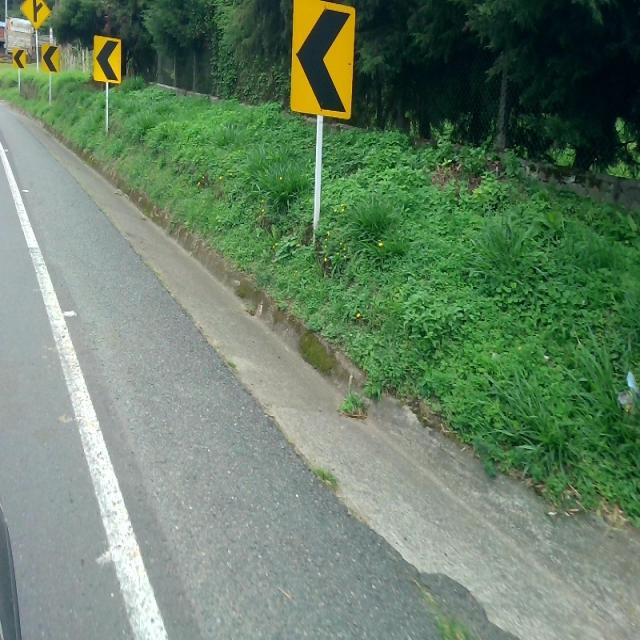DITCH: (1, 99, 638, 638), (1, 245, 638, 639)
